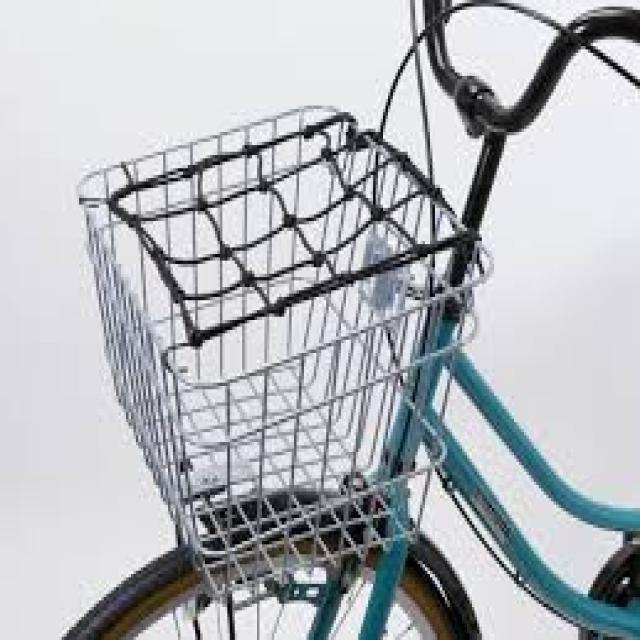basket: (76, 104, 492, 596)
